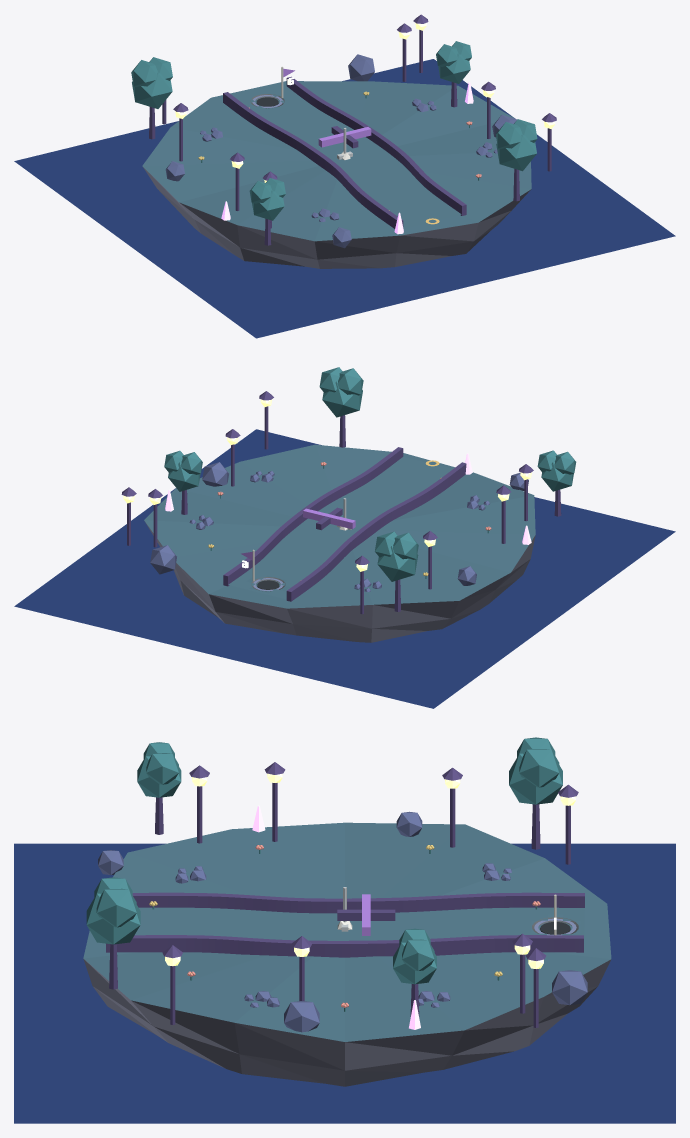
Rendered from course-16.glb.
The picture shows the model from 3 angles, top to bottom: view 1: azimuth 30°, elevation 25°; view 2: azimuth 150°, elevation 25°; view 3: azimuth 270°, elevation 25°; orthographic projection. The views are drawn at different scales.
Parts seen in each view (by area): view 1: water-plane.015, island-turf-edge.015, island-rock-plinth.015, surface-grass, rail-left, rail-right, faceted-canopy.117, faceted-canopy.111, faceted-canopy.108, faceted-rock.111, faceted-canopy.114, faceted-canopy.112 (+1 smaller); view 2: water-plane.015, island-turf-edge.015, island-rock-plinth.015, surface-grass, rail-left, rail-right, faceted-canopy.111, faceted-canopy.117, faceted-rock.111, faceted-canopy.118, faceted-canopy.112, faceted-canopy.108 (+2 smaller); view 3: water-plane.015, island-turf-edge.015, island-rock-plinth.015, surface-grass, rail-right, rail-left, faceted-canopy.117, faceted-canopy.111, faceted-canopy.113, faceted-canopy.119, faceted-rock.111, faceted-rock.109 (+5 smaller).
Part boxes in pixels (x1=…): water-plane.015: x1=14, y1=59, x2=675, y2=338; island-turf-edge.015: x1=142, y1=81, x2=531, y2=241; island-rock-plinth.015: x1=143, y1=167, x2=531, y2=268; surface-grass: x1=236, y1=86, x2=461, y2=228; rail-left: x1=223, y1=92, x2=403, y2=228; rail-right: x1=286, y1=76, x2=466, y2=215; faceted-canopy.117: x1=496, y1=134, x2=536, y2=171; faceted-canopy.111: x1=132, y1=72, x2=172, y2=108; faceted-canopy.108: x1=252, y1=190, x2=284, y2=220; faceted-rock.111: x1=348, y1=54, x2=374, y2=81; faceted-canopy.114: x1=438, y1=53, x2=470, y2=83; faceted-canopy.112: x1=131, y1=60, x2=157, y2=87; water-plane.015: x1=14, y1=429, x2=675, y2=708; island-turf-edge.015: x1=144, y1=444, x2=535, y2=608; island-rock-plinth.015: x1=145, y1=522, x2=535, y2=642; surface-grass: x1=228, y1=457, x2=453, y2=599; rail-left: x1=286, y1=462, x2=466, y2=601; rail-right: x1=223, y1=447, x2=403, y2=586; faceted-canopy.111: x1=377, y1=545, x2=418, y2=581; faceted-canopy.117: x1=322, y1=381, x2=362, y2=417; faceted-rock.111: x1=150, y1=545, x2=176, y2=574; faceted-canopy.118: x1=337, y1=368, x2=363, y2=395; faceted-canopy.112: x1=393, y1=532, x2=418, y2=559; faceted-canopy.108: x1=541, y1=461, x2=573, y2=491; water-plane.015: x1=14, y1=843, x2=675, y2=1123; island-turf-edge.015: x1=83, y1=822, x2=611, y2=1041; island-rock-plinth.015: x1=83, y1=959, x2=610, y2=1086; surface-grass: x1=105, y1=907, x2=584, y2=945; rail-right: x1=106, y1=935, x2=583, y2=957; rail-left: x1=132, y1=892, x2=584, y2=913; faceted-canopy.117: x1=86, y1=893, x2=140, y2=944; faceted-canopy.111: x1=509, y1=753, x2=562, y2=804; faceted-canopy.113: x1=519, y1=749, x2=559, y2=787; faceted-canopy.119: x1=96, y1=888, x2=136, y2=927; faceted-rock.111: x1=552, y1=970, x2=587, y2=1005; faceted-rock.109: x1=284, y1=1001, x2=319, y2=1032.
Bounding box in the file's own units: 12.3 × 3.35 × 12.3.
